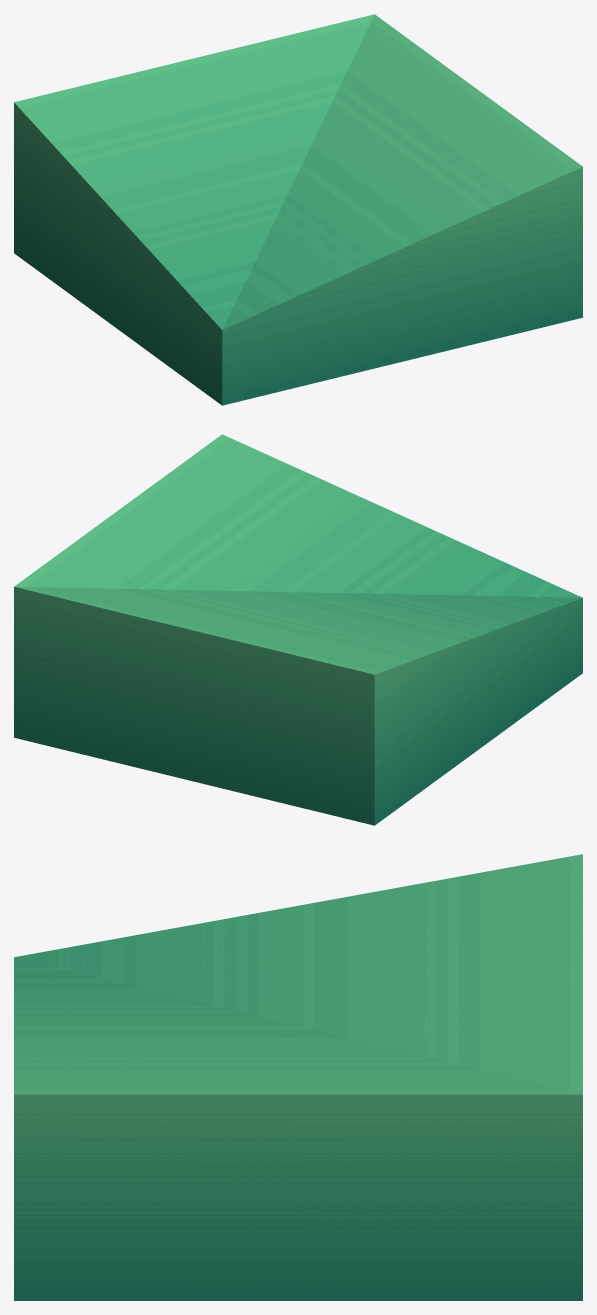
The model's file is tower-defense-kit--tile-corner-inner.glb.
3 renders of one model, top to bottom at view 1: azimuth 30°, elevation 25°; view 2: azimuth 150°, elevation 25°; view 3: azimuth 270°, elevation 25°, orthographic. The views are drawn at different scales.
Parts seen in each view (by area): view 1: tile-corner-inner; view 2: tile-corner-inner; view 3: tile-corner-inner.
Part boxes in pixels (box(x1,y1,x2,y2)): tile-corner-inner: box(14, 14, 582, 405); tile-corner-inner: box(14, 434, 582, 825); tile-corner-inner: box(14, 854, 582, 1300).
Size of the model in its own units: 1 by 0.4 by 1.
1 material, 1 textured.
